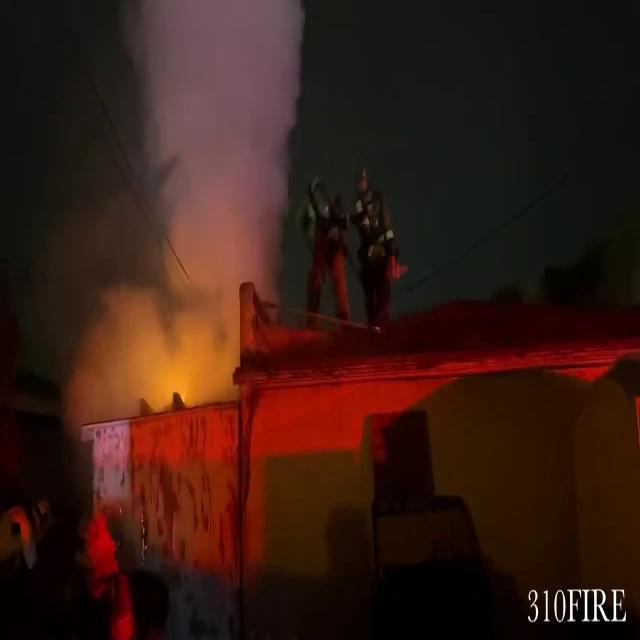Smoke: (54, 0, 320, 362)
